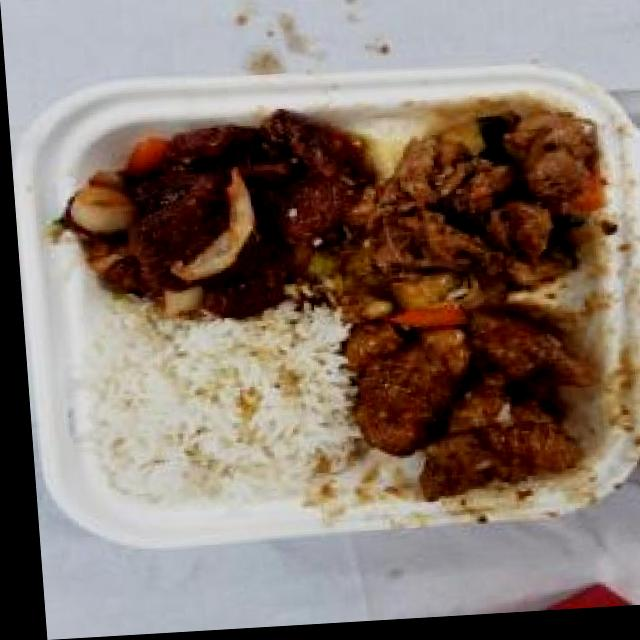Beijing Beef: (50, 103, 375, 321)
Kung Pao Chicken: (337, 97, 614, 318)
The Original Orange Chicken: (345, 314, 598, 505)
White Steamed Rice: (72, 308, 353, 516)
